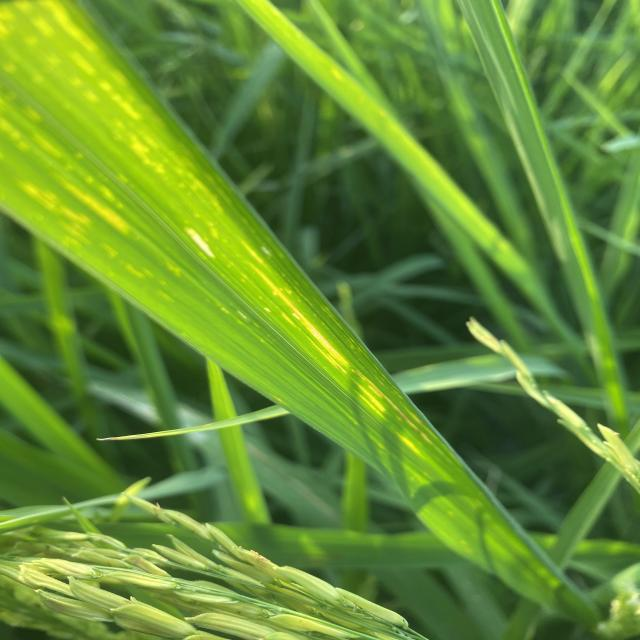Dom soc vi khuan: (252, 265, 348, 366), (356, 369, 433, 445), (307, 336, 347, 374), (185, 228, 215, 258), (358, 385, 386, 411), (360, 395, 387, 421), (398, 434, 422, 455), (264, 307, 271, 312)
